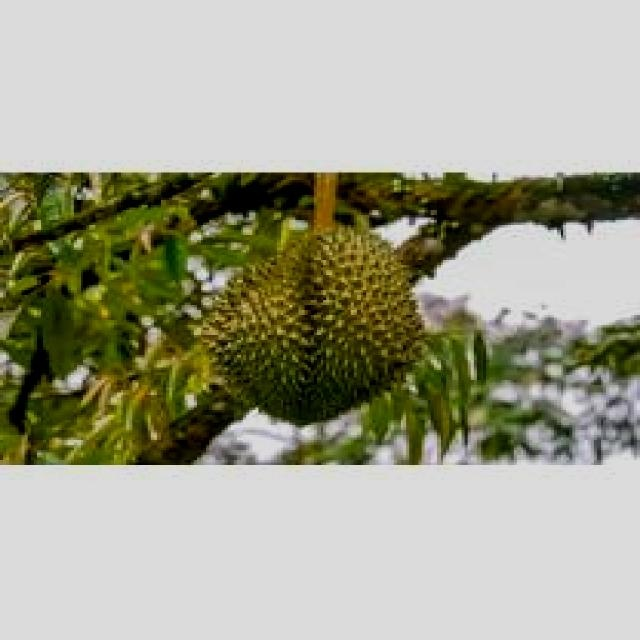agrume: (197, 223, 440, 425)
